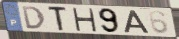6: (148, 10, 170, 35)
9: (98, 8, 123, 34)
A: (123, 10, 151, 34)
D: (21, 5, 47, 30)
H: (70, 7, 98, 33)
T: (47, 6, 69, 32)
